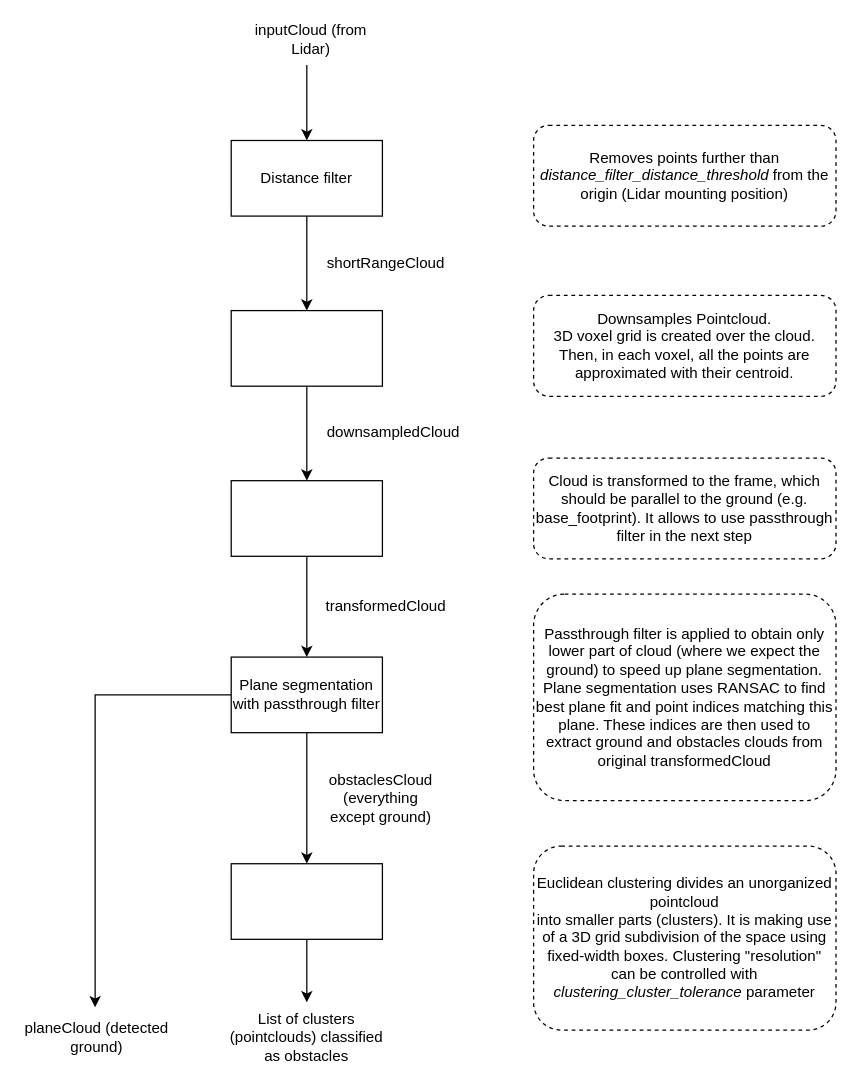
This 858x1086 diagram has some shape labels left out. Here are the shapes that lost their labels. From the top down, the box of each, then its label:
(230, 309, 382, 386): Voxel grid filter
(230, 479, 382, 556): Transformation to the frame parallel to the ground
(230, 862, 382, 939): Clustering
